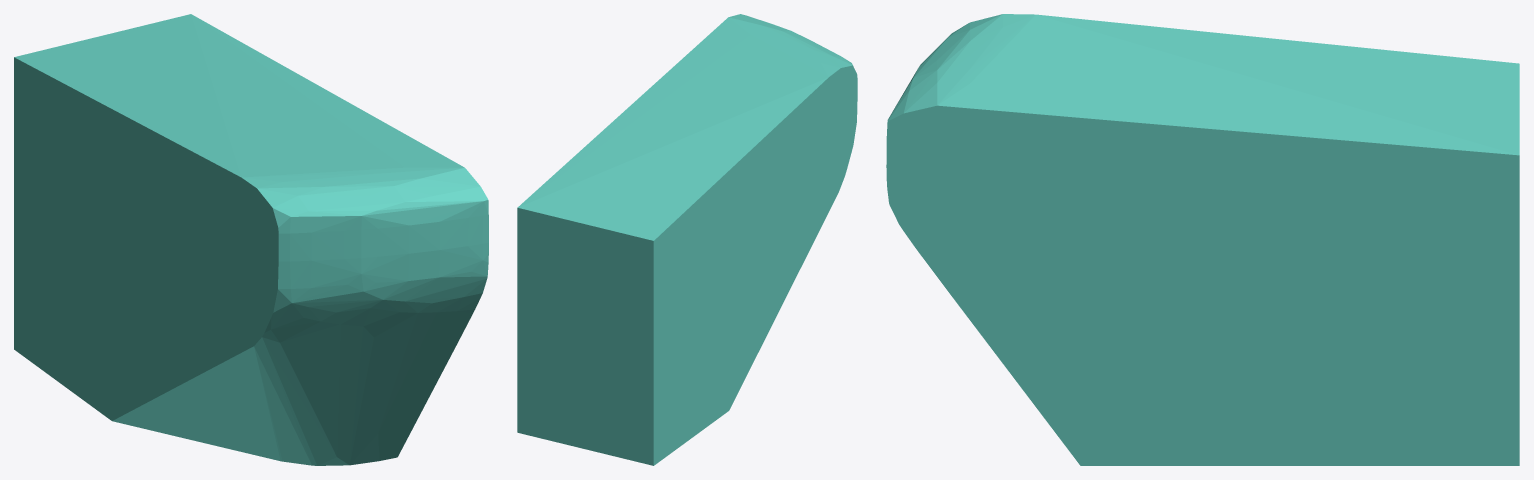
The model's file is arch_peg_convex_coll_007.obj.
3 views of the same model, side by side, from view 1: azimuth 30°, elevation 25°; view 2: azimuth 150°, elevation 25°; view 3: azimuth 270°, elevation 25° (orthographic). The views are drawn at different scales.
Size of the model in its own units: 0.0119 by 0.0217 by 0.0346.
